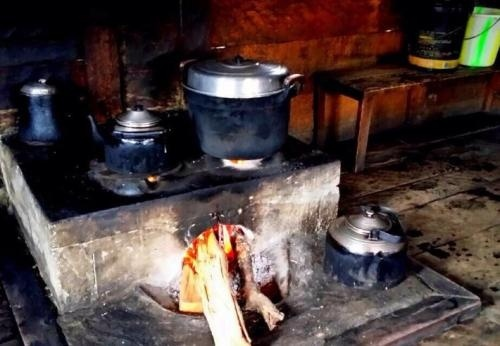fire: (181, 219, 243, 311)
